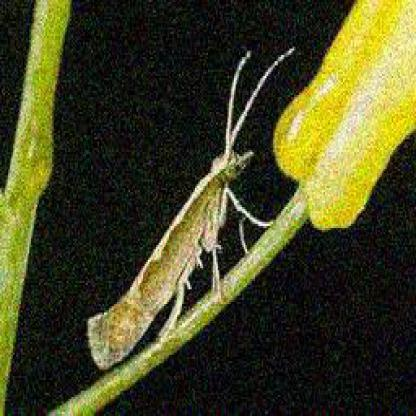plutella: (82, 34, 304, 379)
